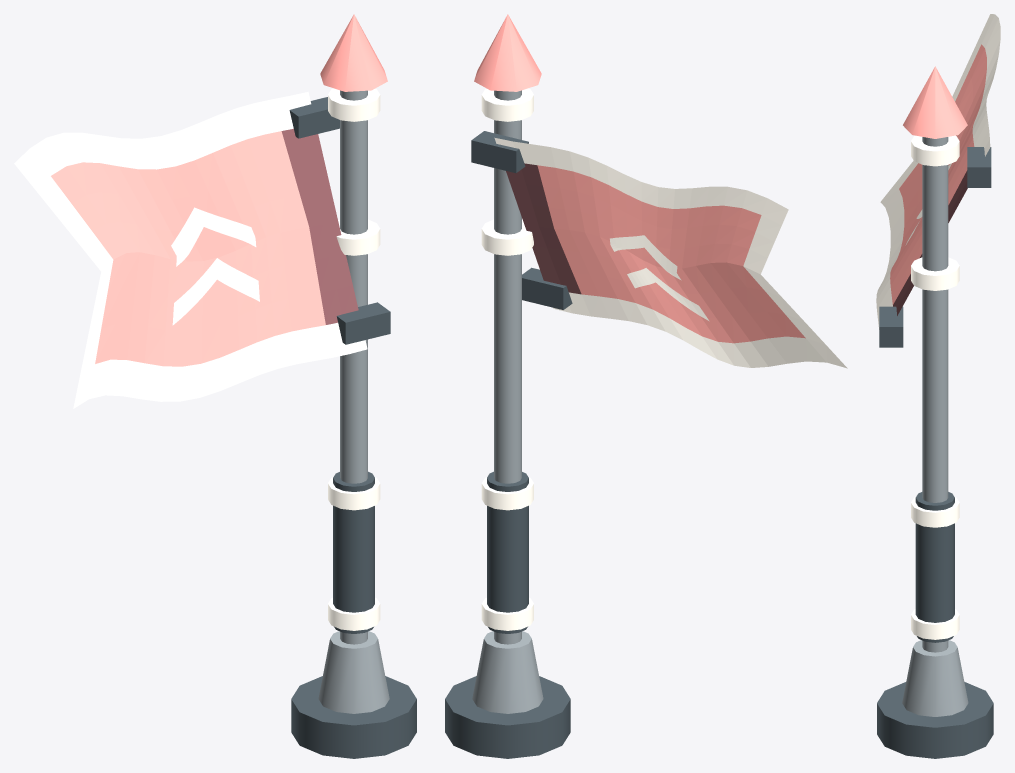
Rendered from flag-red.glb.
3 renders of one model, left to right at view 1: azimuth 30°, elevation 25°; view 2: azimuth 150°, elevation 25°; view 3: azimuth 270°, elevation 25°, orthographic. The views are drawn at different scales.
Parts seen in each view (by area): view 1: static:objective-red, static:objective-ivory, static:objective-carbon, static:objective-steel, static:objective-red-inset; view 2: static:objective-red, static:objective-ivory, static:objective-carbon, static:objective-steel, static:objective-red-inset; view 3: static:objective-steel, static:objective-carbon, static:objective-ivory, static:objective-red, static:objective-red-inset.
Boxes of the visible parts, box(x1,y1,x2,y2) form: static:objective-red: box(51, 14, 387, 366); static:objective-ivory: box(14, 88, 380, 630); static:objective-carbon: box(289, 97, 416, 758); static:objective-steel: box(318, 90, 389, 713); static:objective-red-inset: box(281, 128, 358, 324); static:objective-red: box(474, 14, 805, 343); static:objective-ivory: box(481, 88, 847, 630); static:objective-carbon: box(445, 131, 572, 758); static:objective-steel: box(472, 90, 543, 713); static:objective-red-inset: box(506, 163, 581, 294); static:objective-steel: box(902, 137, 968, 716); static:objective-carbon: box(877, 147, 993, 758); static:objective-ivory: box(876, 14, 1000, 639); static:objective-red: box(890, 44, 986, 304); static:objective-red-inset: box(893, 170, 967, 315).
Bounding box in the file's own units: 0.57 × 1.07 × 0.1808.
